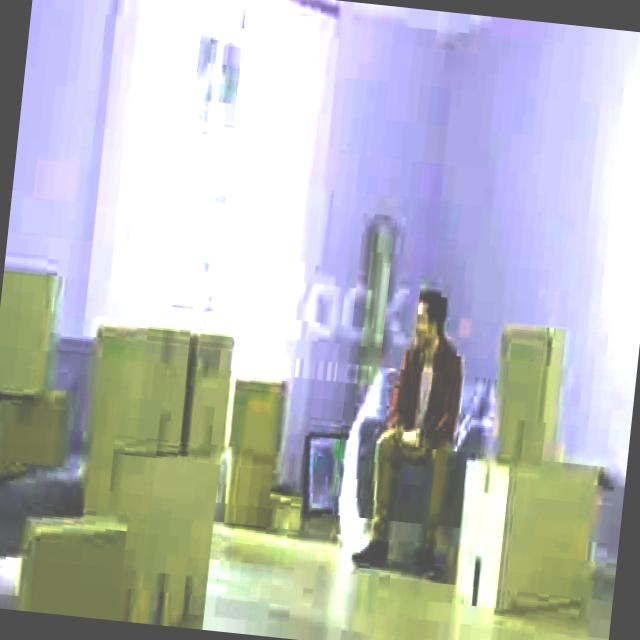Box: (456, 456, 600, 608), (120, 452, 220, 618), (82, 326, 186, 456), (23, 520, 127, 620), (492, 338, 564, 467), (0, 261, 64, 395), (0, 396, 70, 491), (178, 334, 232, 448)
